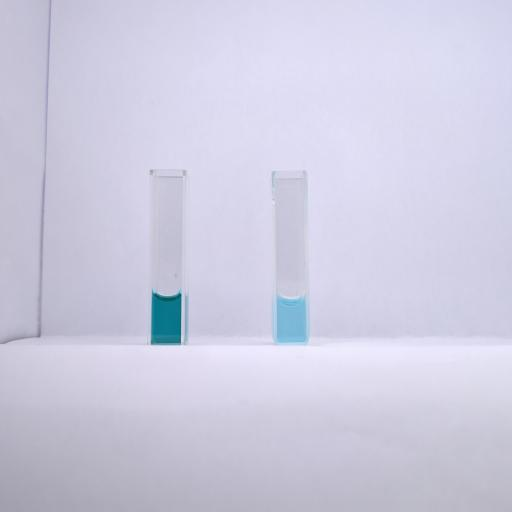cuvette: (146, 166, 188, 349), (270, 168, 310, 347)
liquid: (151, 293, 181, 345), (276, 297, 306, 342)
